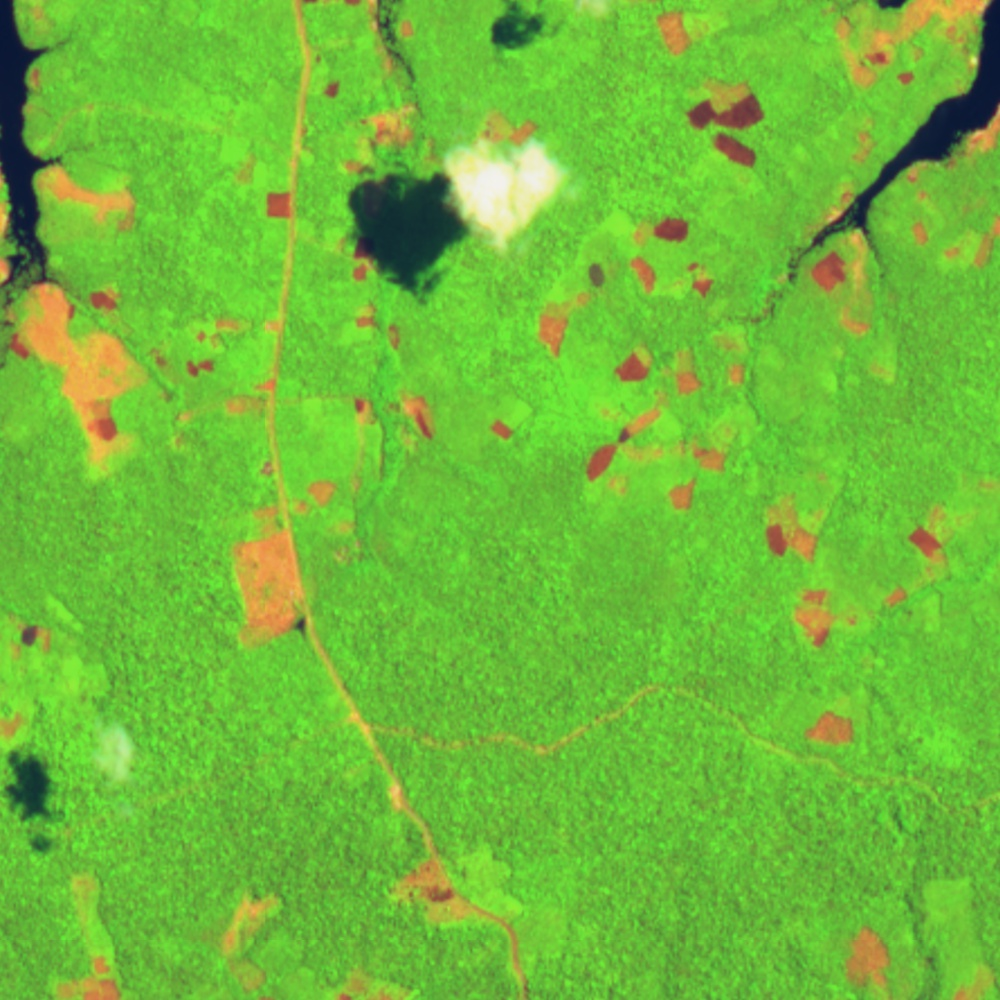legal: (584, 333, 748, 513), (1, 279, 151, 469), (534, 208, 717, 355), (153, 316, 276, 469), (293, 389, 383, 565), (783, 186, 883, 338), (827, 1, 1000, 88), (384, 841, 528, 931), (838, 923, 1000, 1000), (229, 505, 310, 646), (323, 74, 425, 178), (49, 870, 128, 1000), (883, 503, 960, 608), (902, 102, 1000, 182), (216, 887, 285, 997), (685, 76, 770, 164), (34, 159, 136, 232), (909, 193, 1000, 274), (1, 612, 54, 751), (760, 491, 825, 565), (346, 1, 412, 67), (792, 587, 862, 649), (330, 966, 418, 1000), (470, 109, 541, 148), (394, 390, 442, 447), (652, 9, 707, 58), (357, 302, 407, 351), (801, 707, 858, 748), (1, 166, 18, 284), (343, 233, 380, 282), (489, 398, 531, 441), (261, 186, 297, 227), (852, 119, 880, 164)
